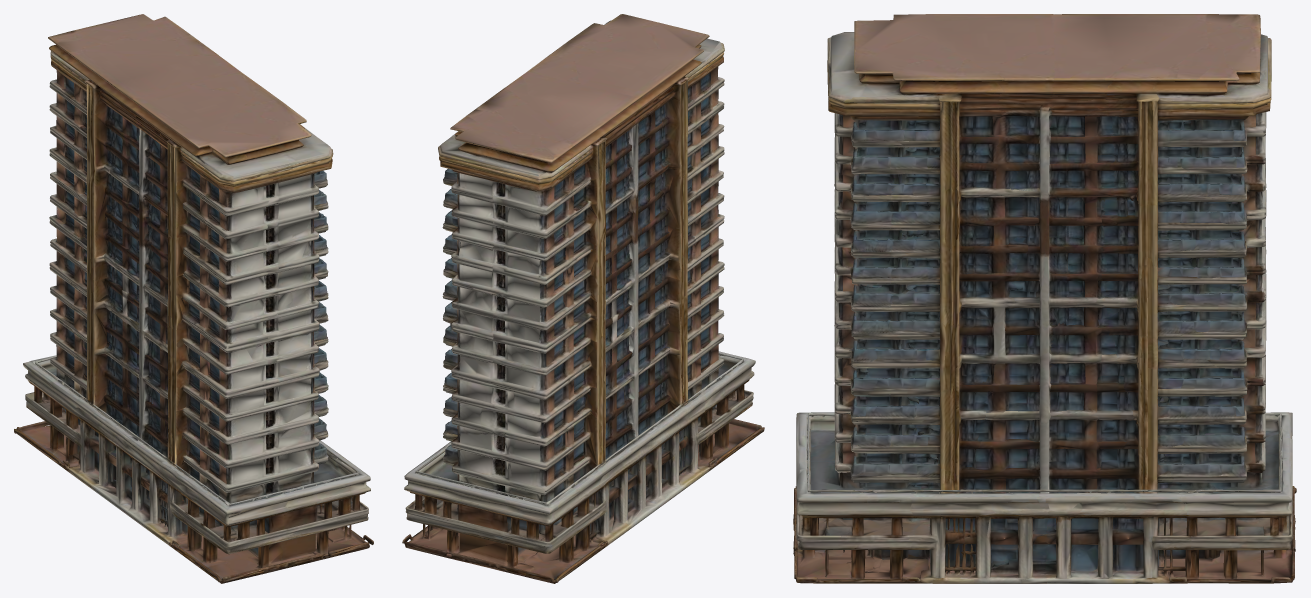
File: tower-c.glb
3 renders of one model, left to right at view 1: azimuth 30°, elevation 25°; view 2: azimuth 150°, elevation 25°; view 3: azimuth 270°, elevation 25°, orthographic. The views are drawn at different scales.
Parts seen in each view (by area): view 1: tripo_node_797bddb5-c86b-43bf-aa6d-df4eea85c5d1; view 2: tripo_node_797bddb5-c86b-43bf-aa6d-df4eea85c5d1; view 3: tripo_node_797bddb5-c86b-43bf-aa6d-df4eea85c5d1.
Part boxes in pixels (<box>): tripo_node_797bddb5-c86b-43bf-aa6d-df4eea85c5d1: <box>14,14,373,583</box>; tripo_node_797bddb5-c86b-43bf-aa6d-df4eea85c5d1: <box>402,14,764,583</box>; tripo_node_797bddb5-c86b-43bf-aa6d-df4eea85c5d1: <box>793,14,1296,583</box>.
Bounding box in the file's own units: 0.4852 × 1.2 × 1.11.
1 material, 1 textured.
